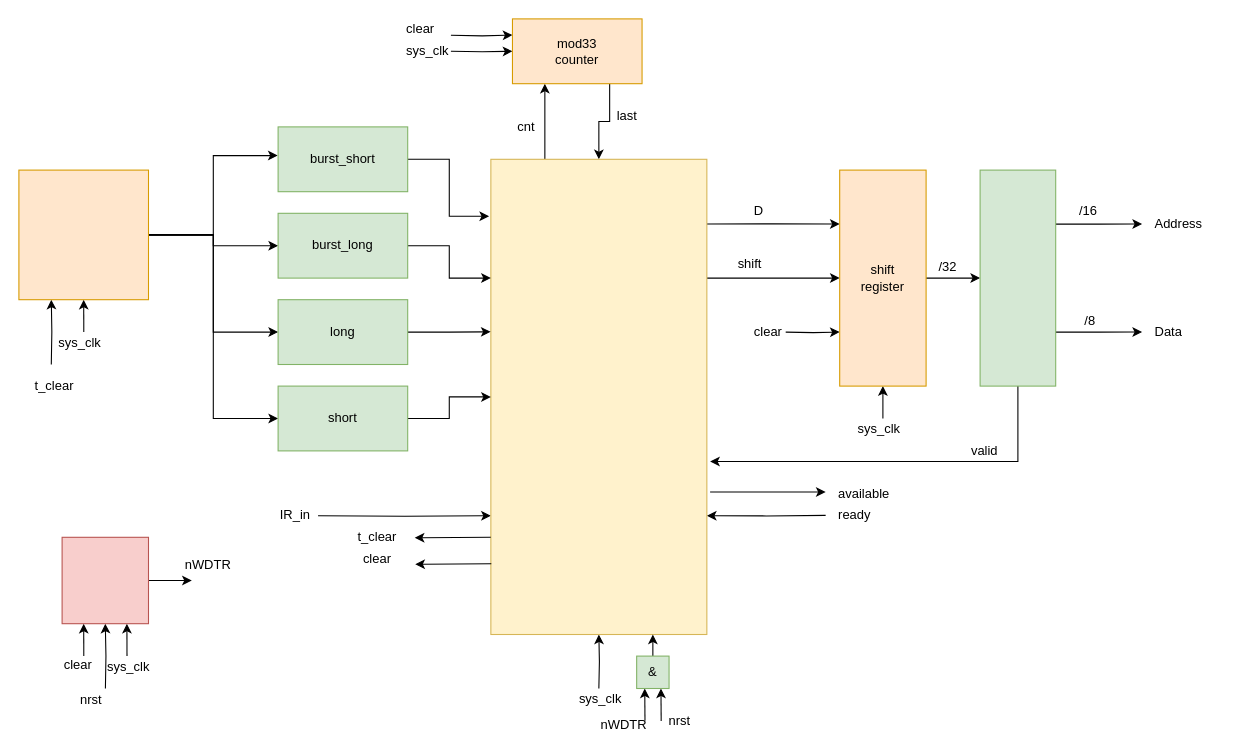
The diagram is 1237 pixels wide and 755 high, and some of its shapes have lost their labels. The box of each missing label's shape, as (x1, y1, x2, y2) in pixels:
Controller: (490, 158, 707, 634)
data collector: (979, 169, 1056, 386)
Timer: (18, 169, 148, 300)
WDT: (61, 536, 148, 624)
